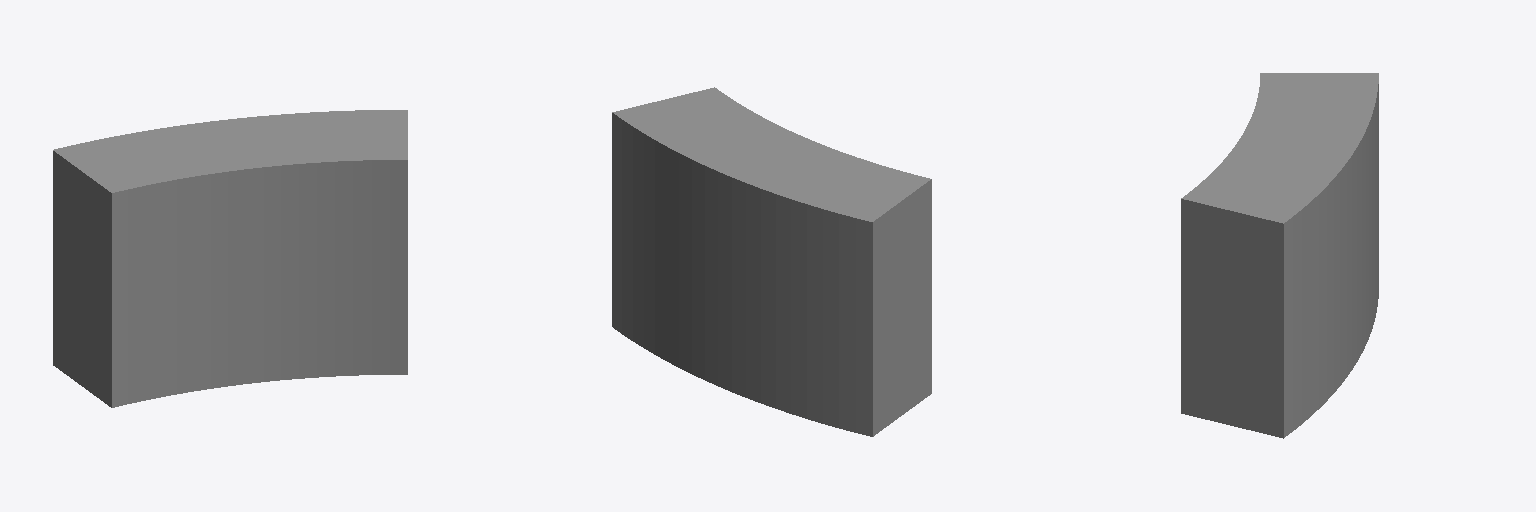
File: platform_wide_size1.obj
3 renders of one model, left to right at view 1: azimuth 30°, elevation 25°; view 2: azimuth 150°, elevation 25°; view 3: azimuth 270°, elevation 25°, orthographic.
Visible parts, largest first — view 1: MeshBody3; view 2: MeshBody3; view 3: MeshBody3.
Boxes of the visible parts, x1,y1,x2,y2 form: MeshBody3: [53, 110, 407, 407]; MeshBody3: [612, 87, 931, 436]; MeshBody3: [1181, 73, 1378, 438].
Size of the model in its own units: 15 by 10 by 8.35.